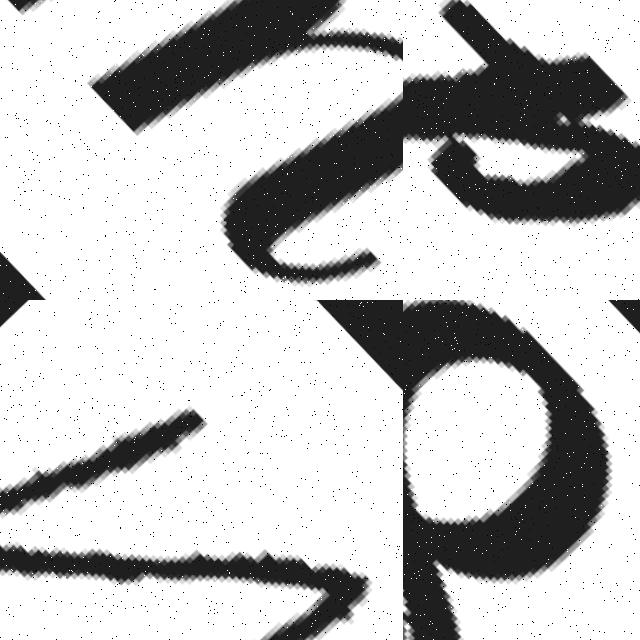8: (403, 300, 640, 640)
M: (0, 0, 403, 300)
N: (0, 300, 403, 640)
P: (403, 0, 640, 300)
